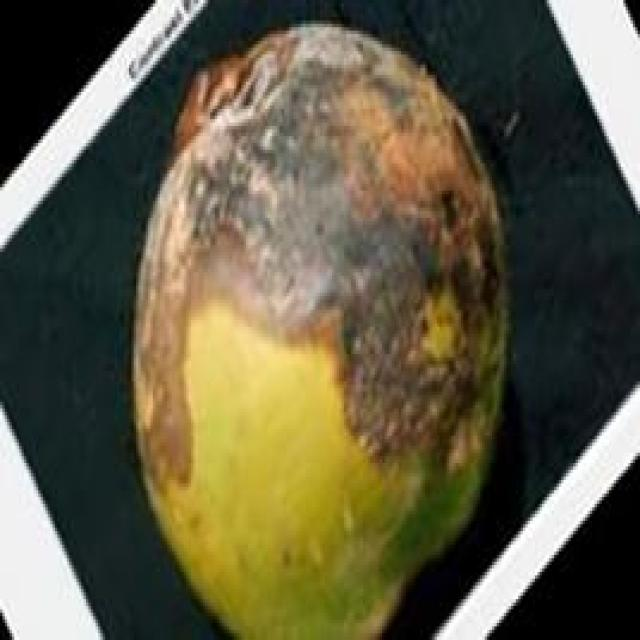damaged: (134, 24, 506, 637)
